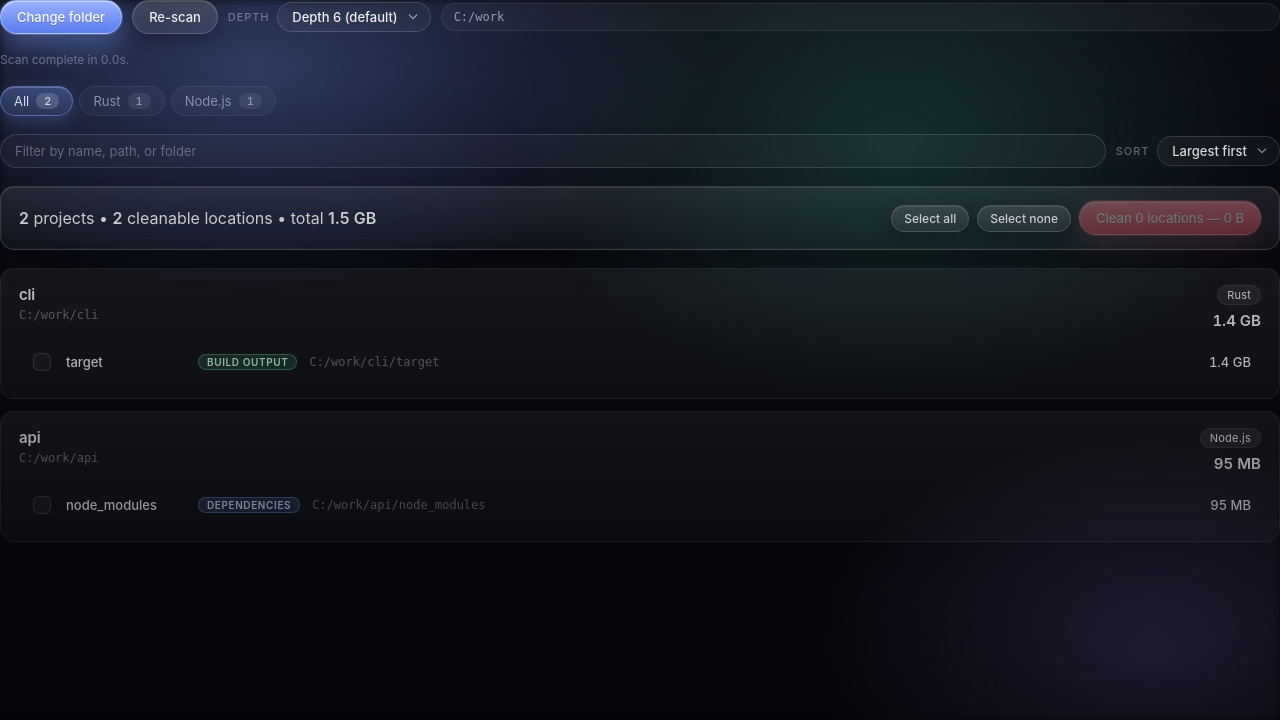
it: ProjectsPanel › propagates scan_id to cleanPaths after confirmation and reports outcomes
This screenshot has width=1280, height=720.
Click the checkbox named "Select node_modules at C:/work/api/node_modules" at (42, 505), box x1=33 y1=496 x2=51 y2=514
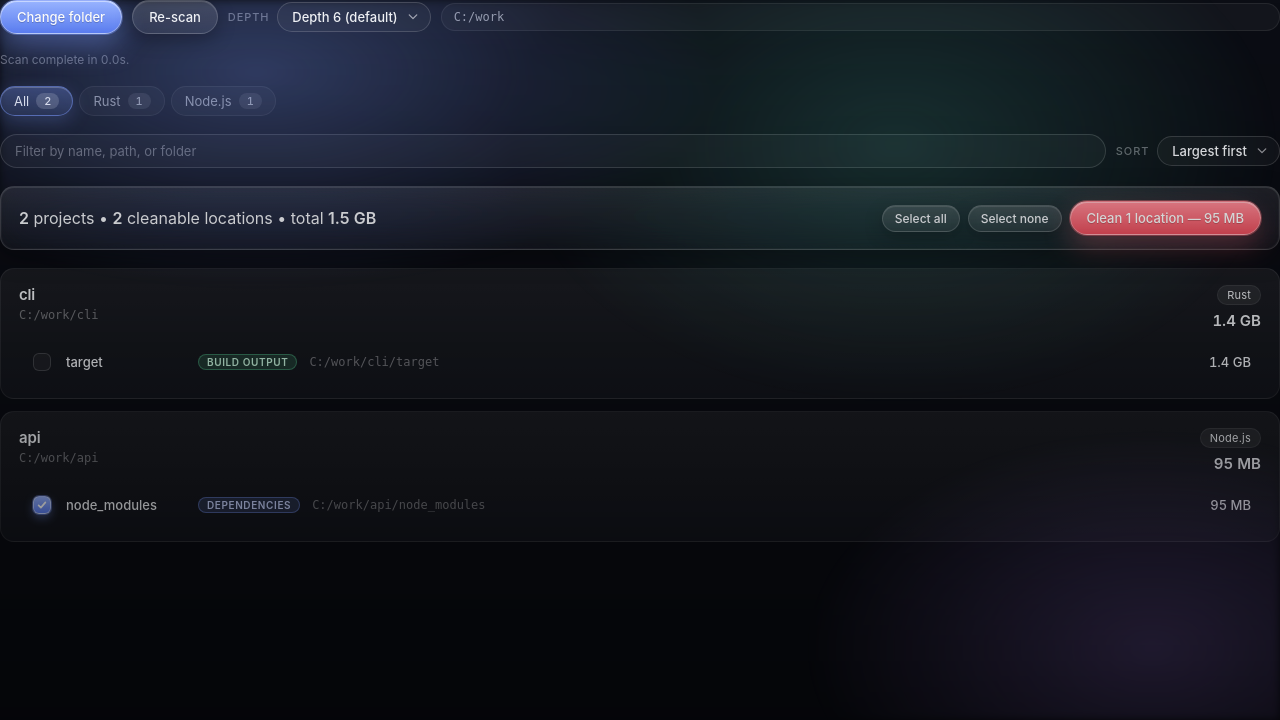
Click the button "Clean 1 location — 95 MB" at (1165, 218), box x1=1070 y1=201 x2=1261 y2=235
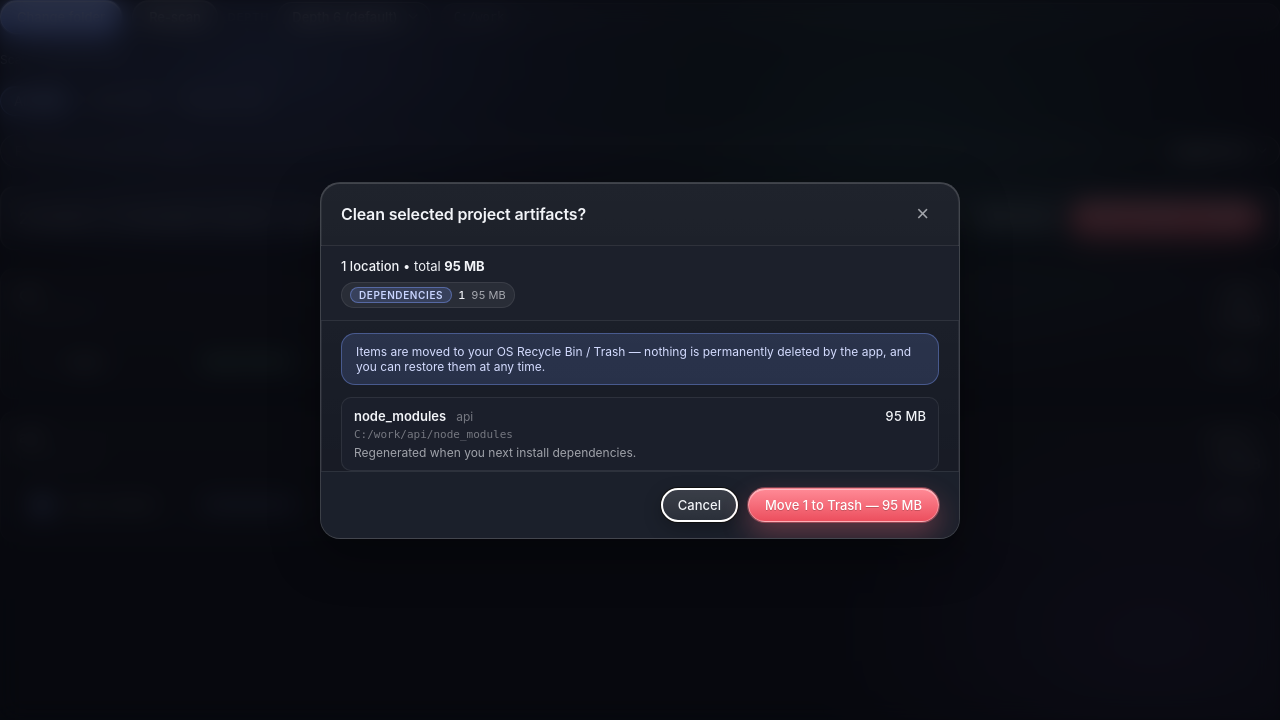
Click the button "Move 1 to Trash — 95 MB" at (844, 504), box x1=748 y1=488 x2=939 y2=522
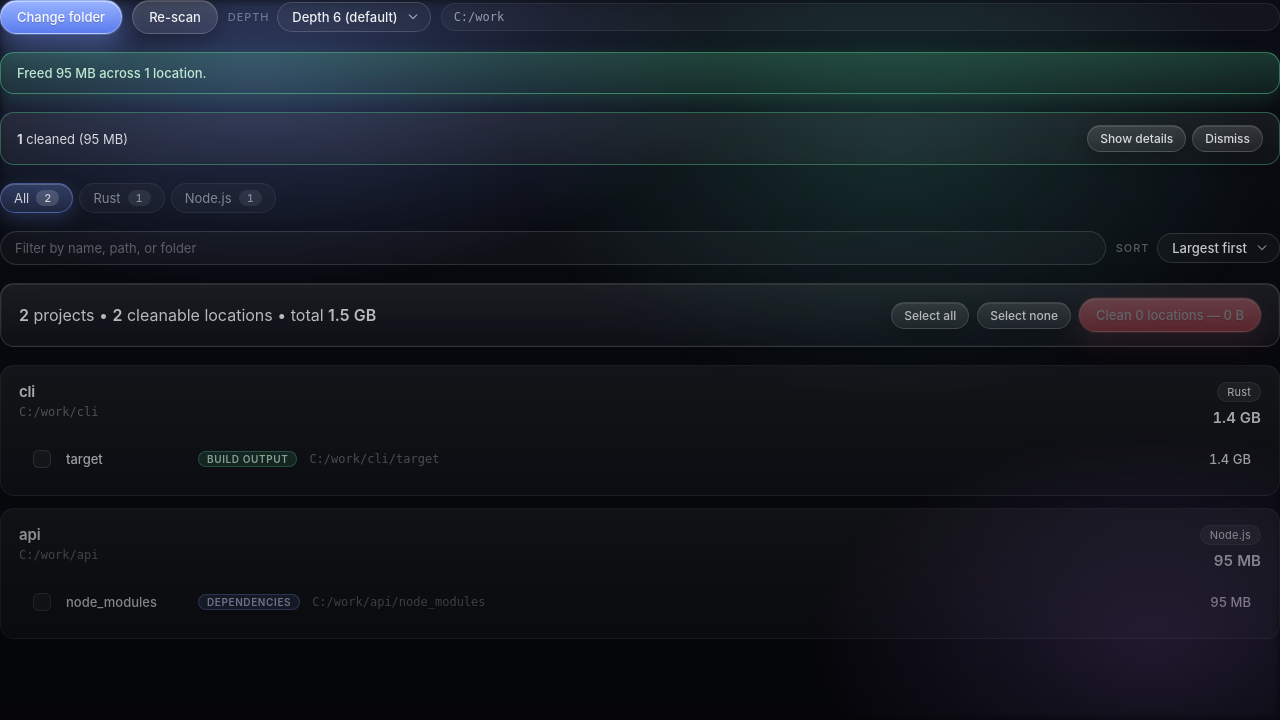
Expected: the text "Freed 95 MB across 1 location." is shown, x1=0 y1=52 x2=1279 y2=94
